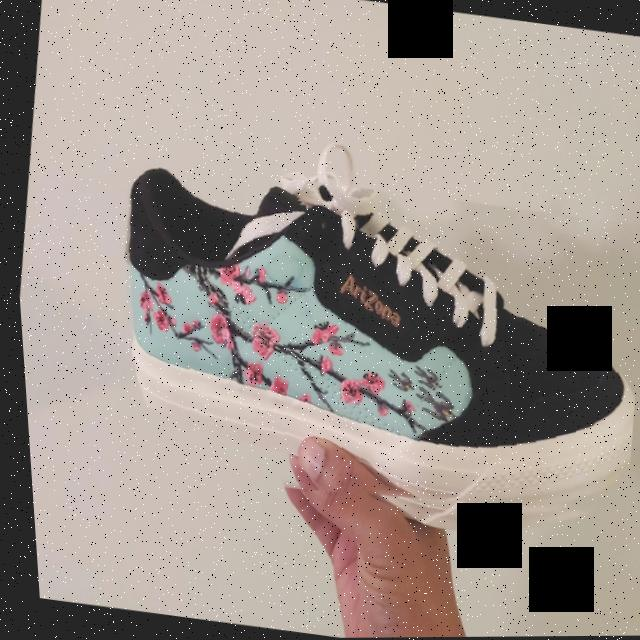shoe: (83, 155, 640, 545)
